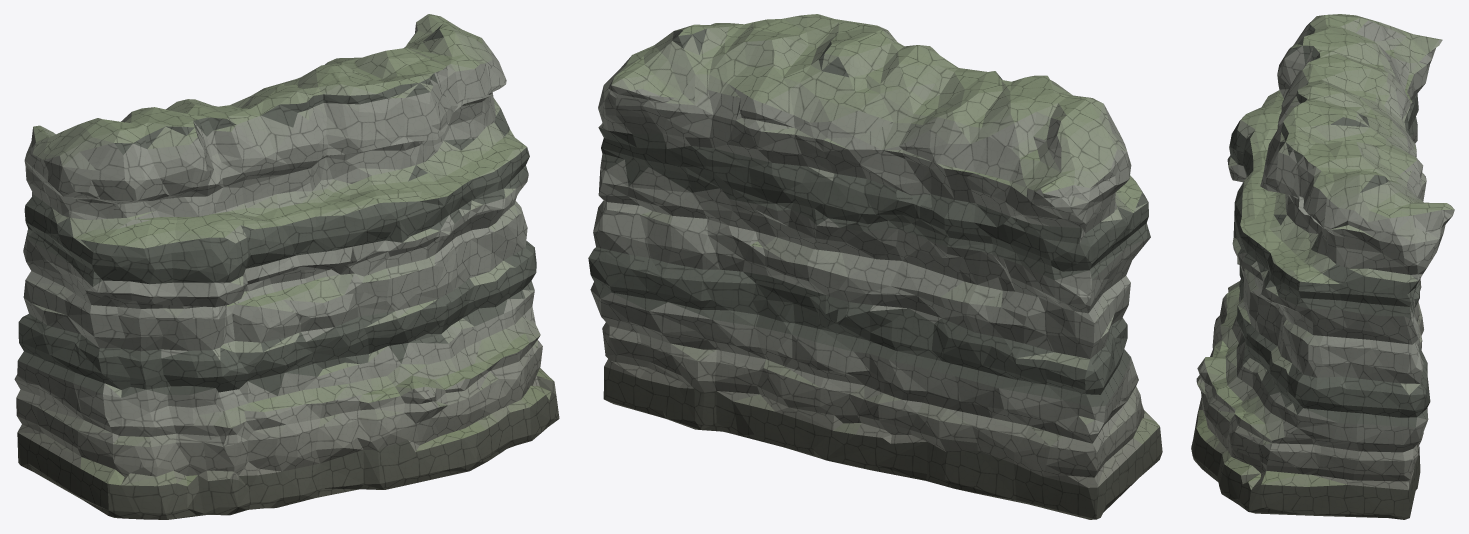
The model's file is cliff_wall_b.glb.
3 renders of one model, left to right at view 1: azimuth 30°, elevation 25°; view 2: azimuth 150°, elevation 25°; view 3: azimuth 270°, elevation 25°, orthographic. The views are drawn at different scales.
Parts seen in each view (by area): view 1: cliff_wall_b.001; view 2: cliff_wall_b.001; view 3: cliff_wall_b.001.
Boxes of the visible parts, x1=… form: cliff_wall_b.001: x1=14, y1=14, x2=559, y2=519; cliff_wall_b.001: x1=588, y1=14, x2=1162, y2=519; cliff_wall_b.001: x1=1191, y1=14, x2=1454, y2=519.
Size of what is drawn, in the model's own units: 15.58 by 11.23 by 8.13.
Materials: 2 (2 with a texture image).
